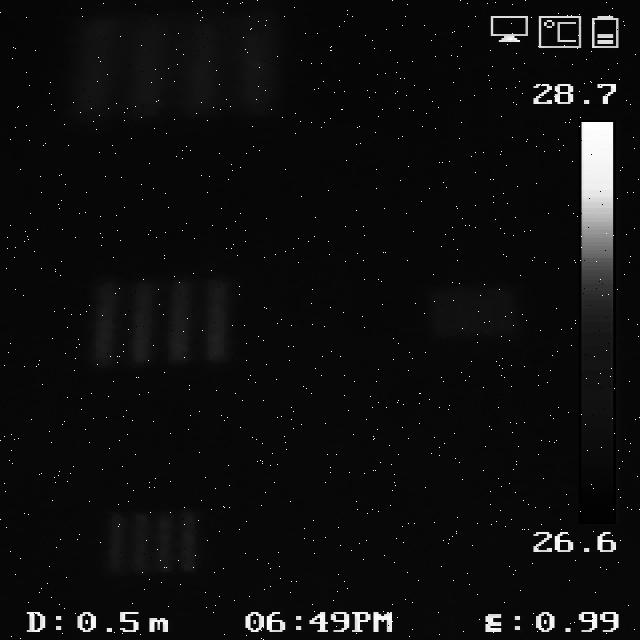Distinguishable 4-bar target: (68, 9, 283, 117), (85, 273, 236, 365), (103, 505, 209, 578)
threshold 4-bar target: (420, 278, 533, 341)
